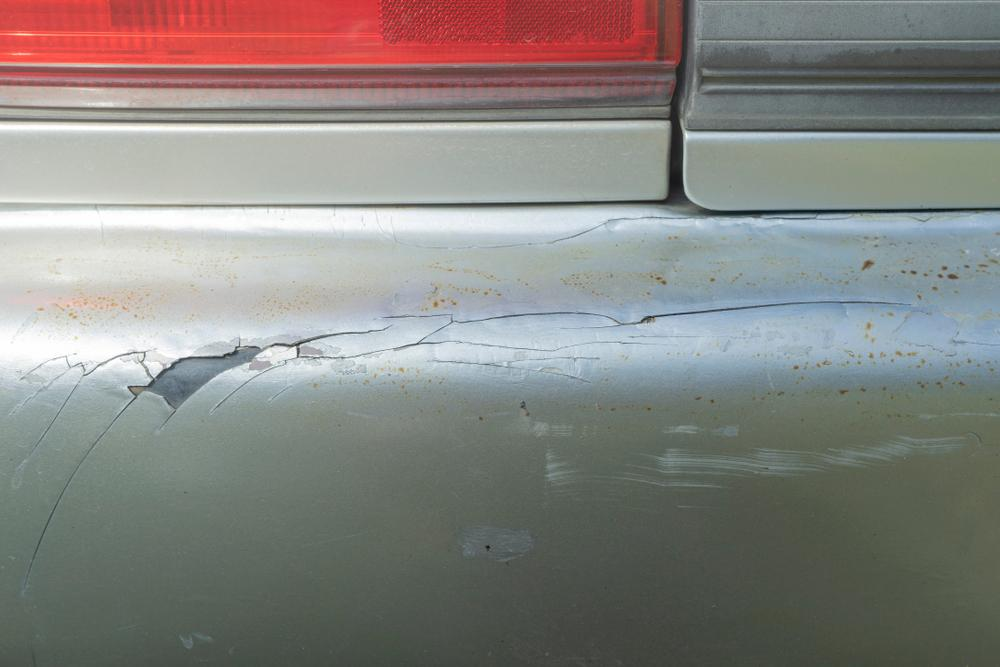scratch: (524, 413, 1000, 514), (446, 519, 550, 572)
